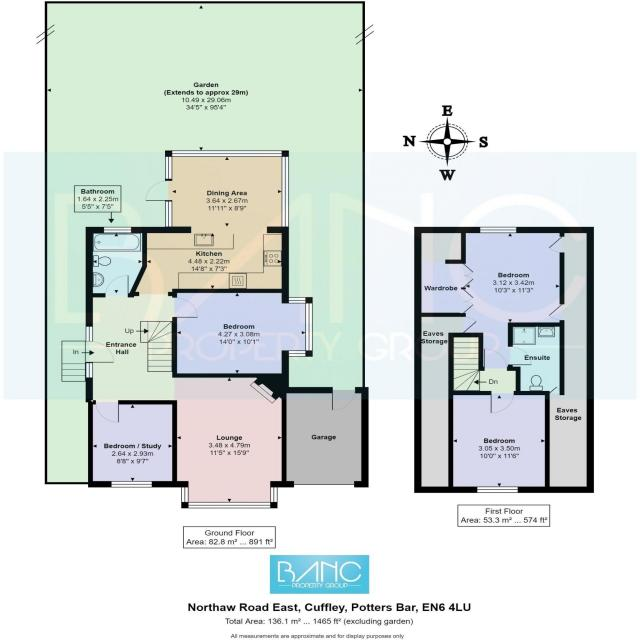DOOR: (85, 341, 115, 363), (489, 391, 515, 414), (94, 400, 120, 423), (172, 296, 199, 318), (483, 348, 508, 371), (104, 275, 129, 298), (145, 180, 172, 201), (507, 346, 532, 366)
ROOM: (129, 150, 289, 296), (414, 227, 564, 371), (172, 288, 313, 378), (448, 390, 550, 493), (88, 400, 177, 488)
WINDOW: (165, 150, 289, 227), (181, 487, 278, 509), (288, 297, 313, 358), (476, 486, 519, 494), (110, 480, 153, 488), (164, 201, 173, 227), (480, 227, 517, 233), (103, 227, 132, 233)
